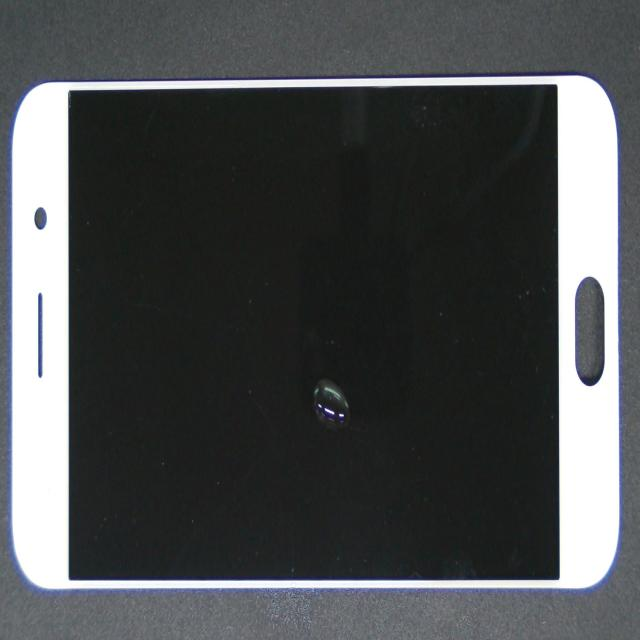oil: (300, 360, 363, 454)
